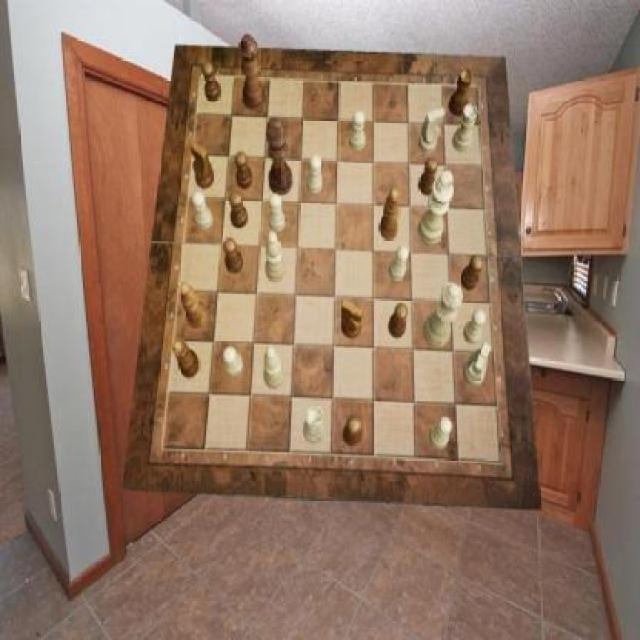bishop: (180, 283, 208, 331), (378, 188, 399, 240)
black-bishop: (266, 119, 293, 196)
black-king: (190, 140, 214, 189), (341, 300, 364, 340)
black-knight: (460, 256, 483, 292), (418, 157, 438, 195), (388, 303, 408, 339), (223, 238, 243, 274), (202, 63, 220, 103), (235, 151, 253, 189), (230, 191, 248, 228), (343, 417, 362, 448)
black-pawn: (238, 34, 266, 111)
black-queen: (449, 68, 474, 117), (172, 338, 200, 378)
black-rook: (266, 230, 286, 282), (264, 346, 286, 390)
white-bishop: (418, 171, 454, 245)
white-king: (418, 106, 446, 154), (463, 343, 491, 385)
white-knight: (463, 309, 486, 344), (192, 191, 213, 229), (430, 417, 452, 451), (389, 246, 409, 282), (349, 111, 366, 151), (269, 194, 286, 232), (306, 155, 322, 194), (223, 346, 243, 377)
white-pawn: (423, 281, 463, 347)
white-queen: (452, 105, 478, 152), (303, 406, 325, 444)
